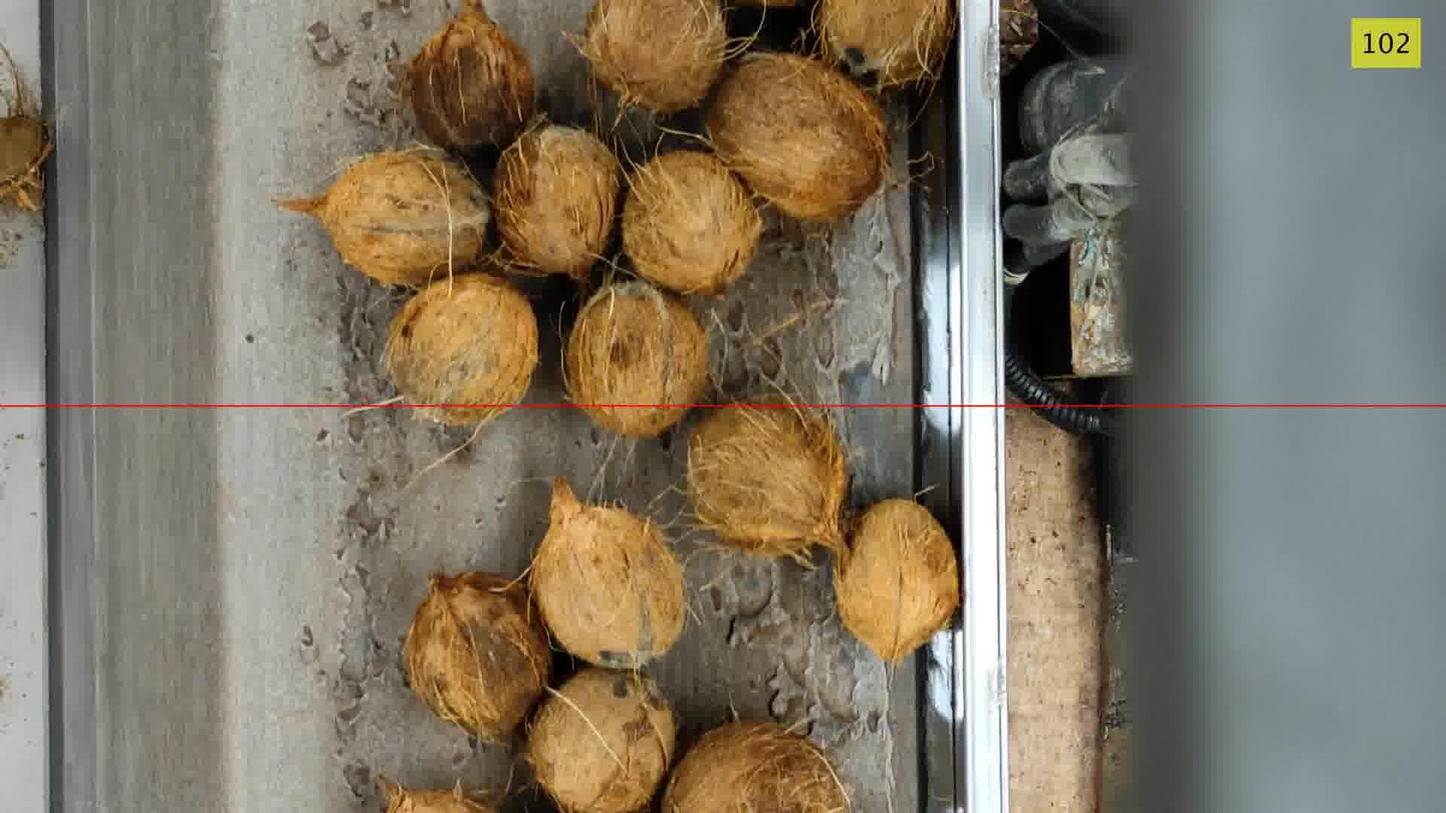Coconut: (707, 52, 889, 221), (530, 478, 686, 668), (279, 148, 490, 286), (402, 571, 551, 739), (688, 403, 847, 559), (385, 273, 538, 424), (563, 282, 709, 436), (529, 669, 675, 812), (834, 499, 960, 662), (623, 152, 762, 294), (493, 123, 620, 277), (403, 0, 535, 148), (573, 0, 729, 113), (660, 722, 850, 812), (813, 0, 954, 86), (0, 45, 53, 210), (0, 115, 53, 210), (378, 778, 495, 812), (732, 0, 798, 8)
